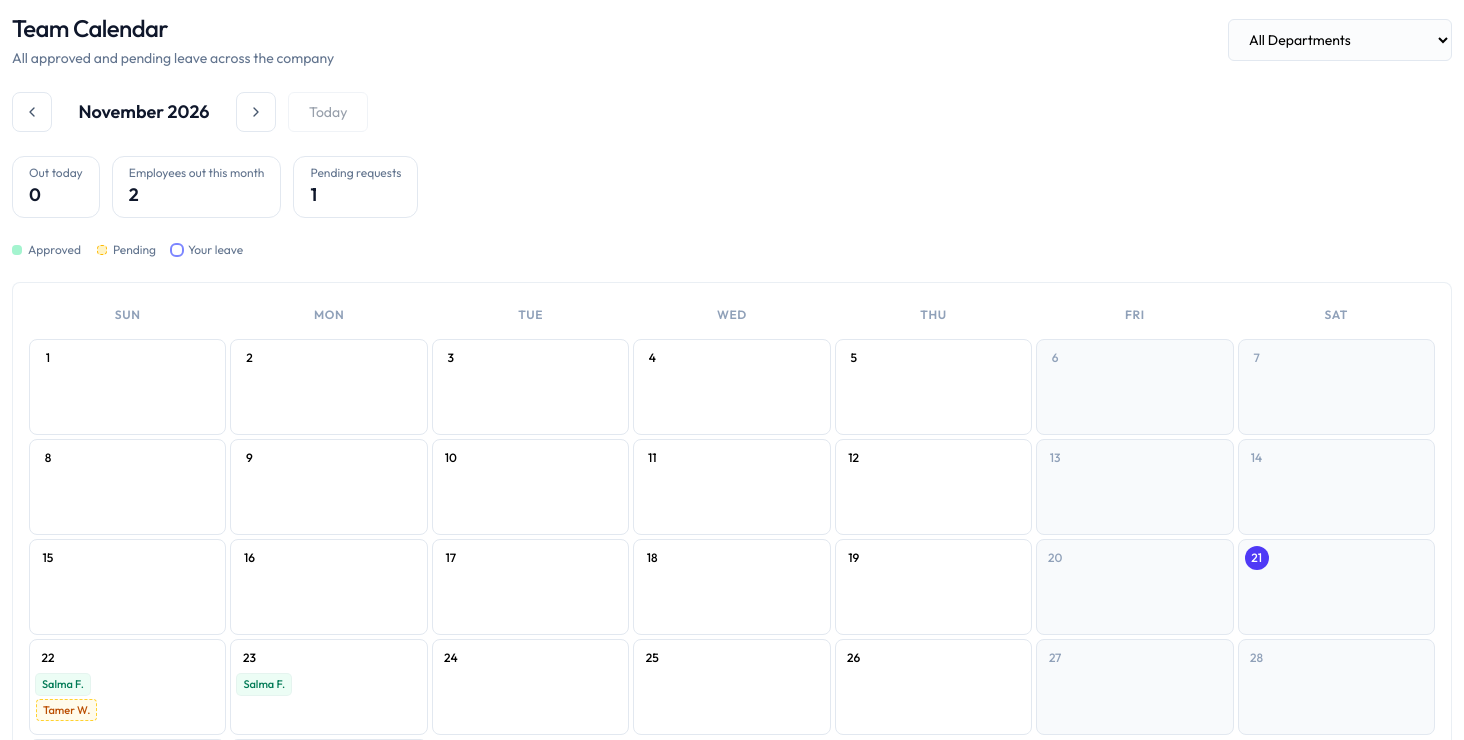
Scenario: TeamCalendarView › moves between months and back to today
Click the button named "Next month": click(256, 112) left=236, top=92, right=276, bottom=132
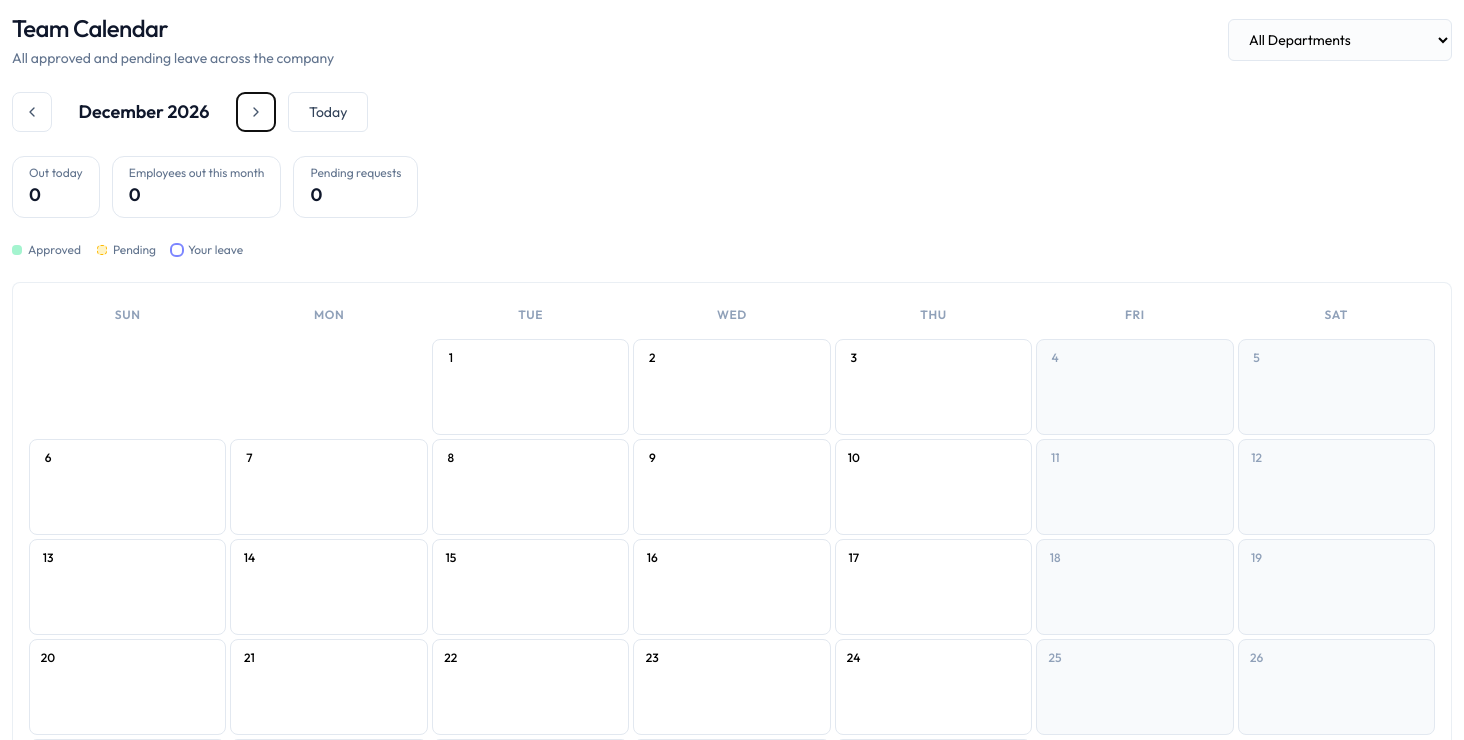
expect the heading "December 2026" is shown: met, box left=79, top=100, right=209, bottom=123
Click the button "Today": click(328, 112) left=288, top=92, right=368, bottom=132
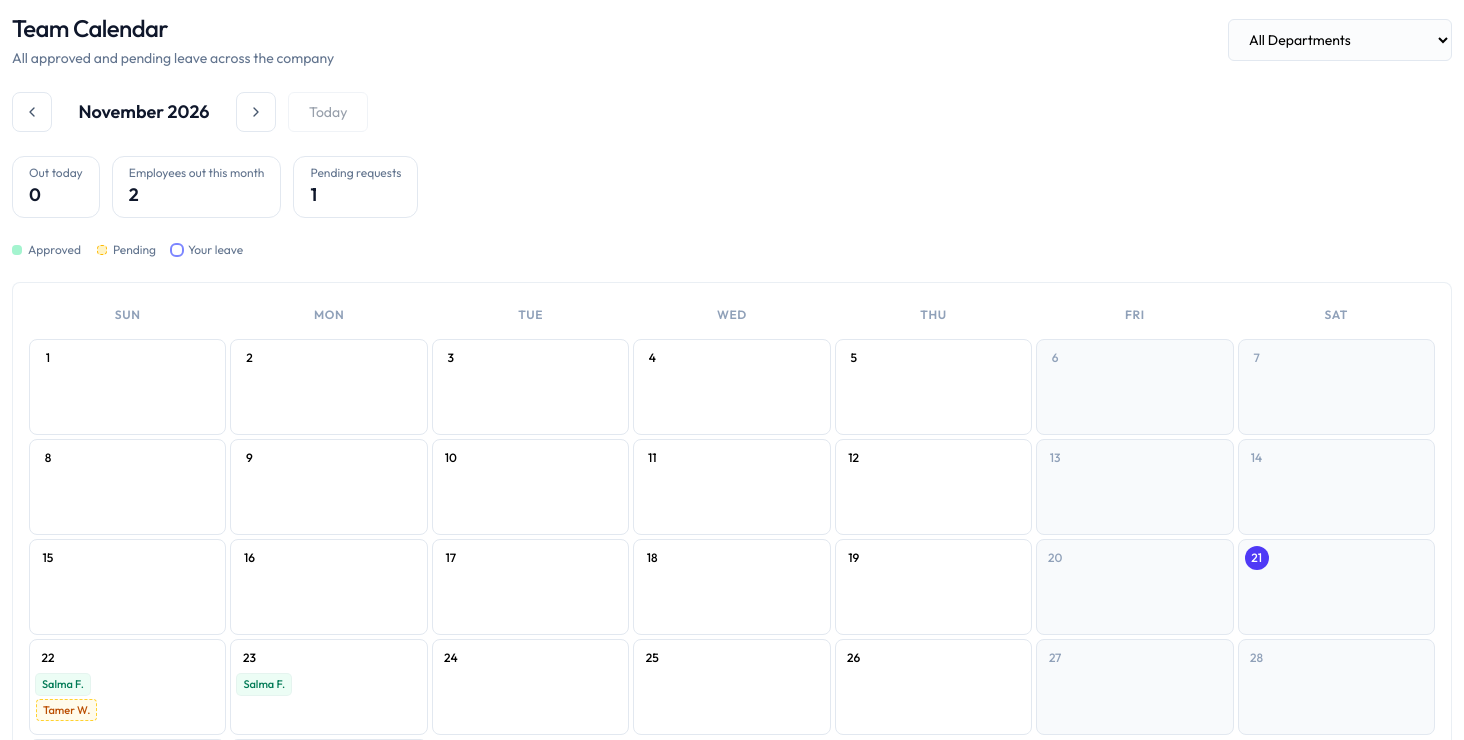
expect the heading "November 2026" is shown: met, box left=78, top=100, right=210, bottom=123
